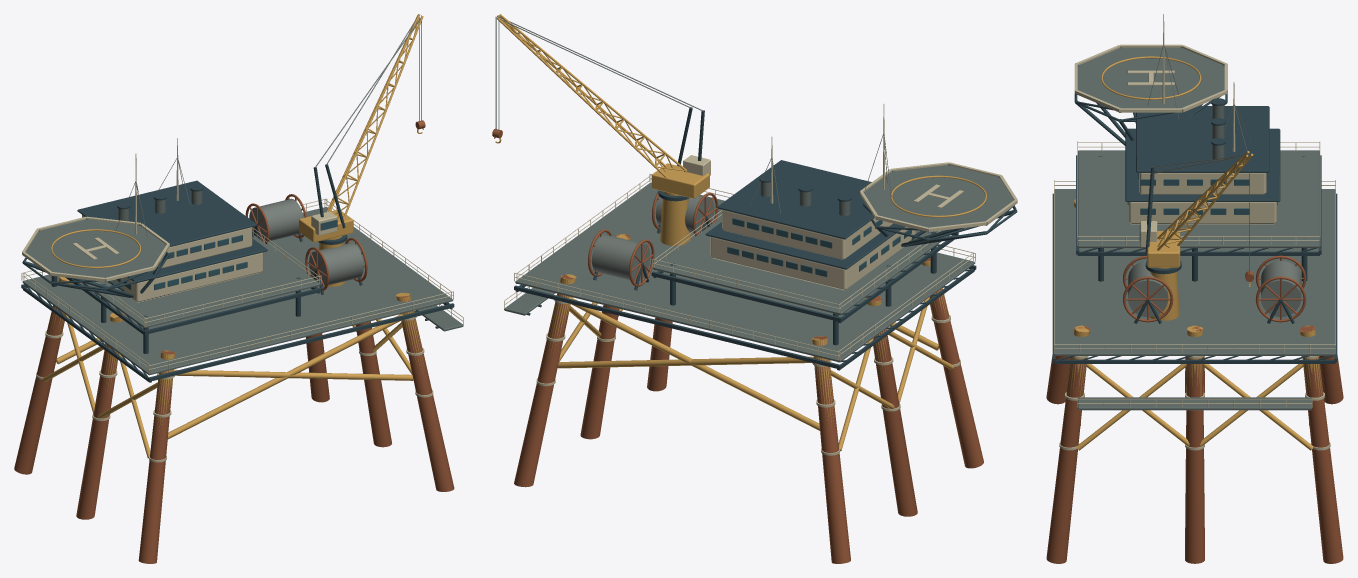
File: offshore_depot.glb
The picture shows the model from 3 angles, left to right: view 1: azimuth 30°, elevation 25°; view 2: azimuth 150°, elevation 25°; view 3: azimuth 270°, elevation 25°; orthographic projection. The views are drawn at different scales.
Parts seen in each view (by area): view 1: offshore_depot; view 2: offshore_depot; view 3: offshore_depot.
Boxes of the visible parts, <box> form: offshore_depot: <box>14,14,463,563</box>; offshore_depot: <box>492,14,1017,563</box>; offshore_depot: <box>1046,14,1343,563</box>.
Bounding box in the file's own units: 70.87 × 62.5 × 38.
